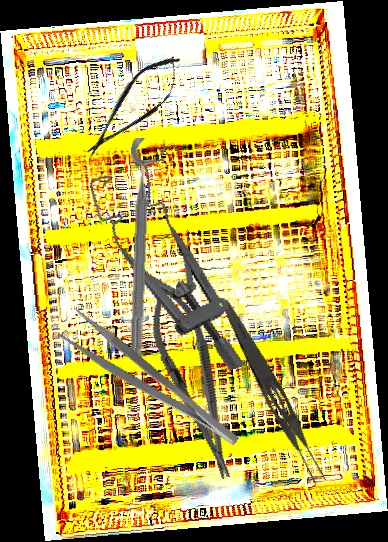Dressing Forceps: (56, 306, 243, 464), (211, 297, 332, 488)
Fixation Ring: (124, 137, 168, 359)
Micro Scissor: (73, 44, 195, 169)
Needle Holder: (138, 279, 250, 487)
Speculum: (86, 150, 247, 394)
